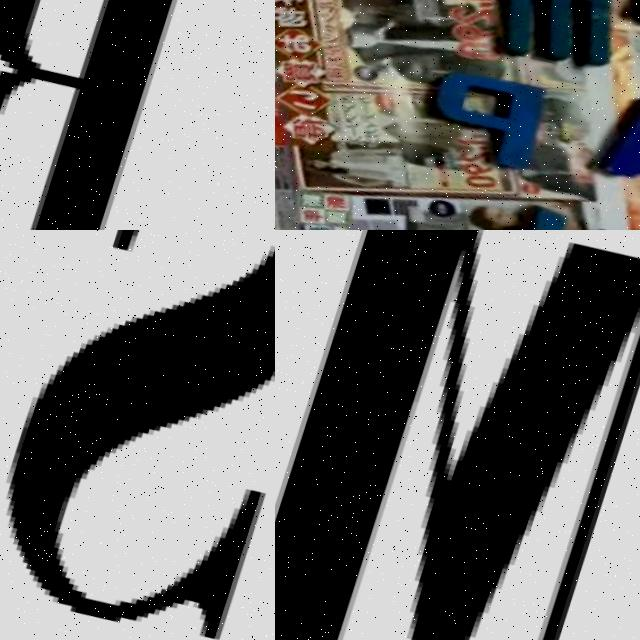M: (275, 230, 640, 640), (485, 0, 627, 80)
N: (591, 89, 640, 223)
P: (416, 61, 558, 181)
S: (0, 230, 275, 640)
V: (493, 202, 638, 230)
